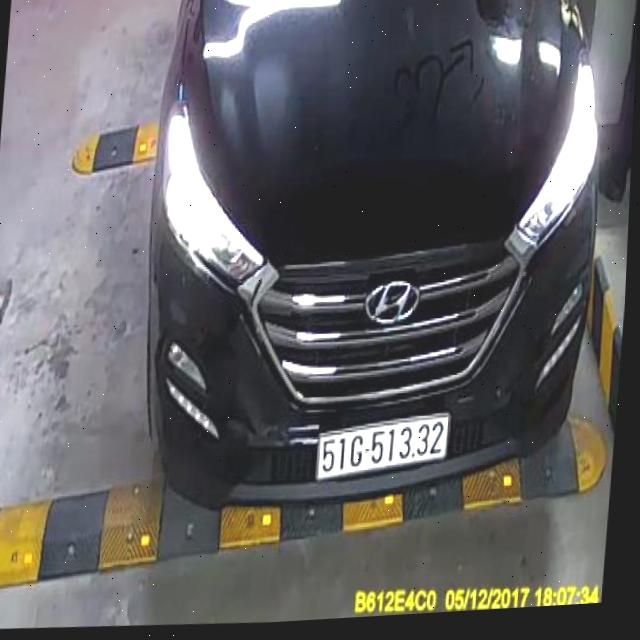car: (123, 0, 625, 530)
plate: (310, 415, 450, 482)
